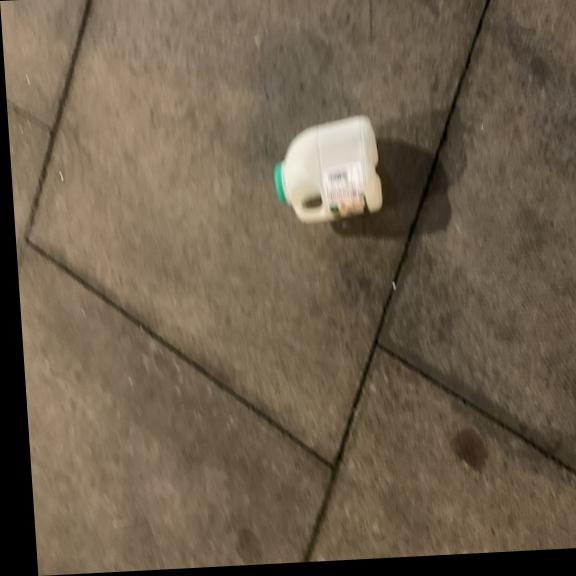Plastik: (267, 111, 386, 225)
